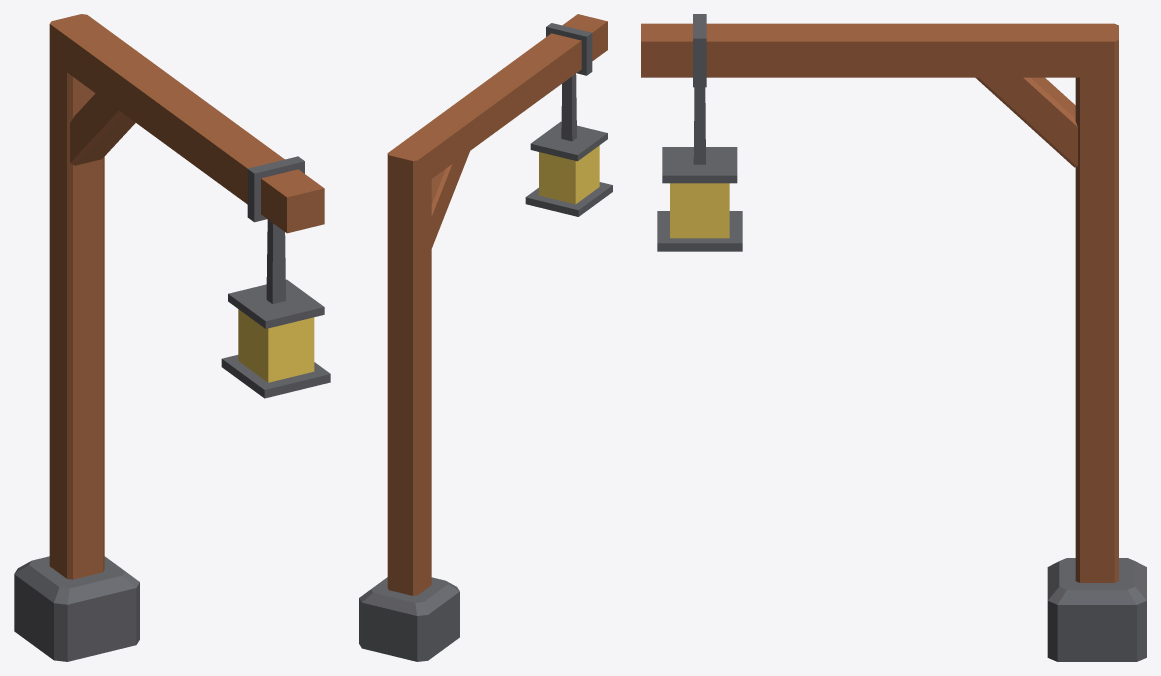
The model's file is model_lamp.fbx.
3 renders of one model, left to right at view 1: azimuth 30°, elevation 25°; view 2: azimuth 150°, elevation 25°; view 3: azimuth 270°, elevation 25°, orthographic. The views are drawn at different scales.
Parts seen in each view (by area): view 1: pCube3; view 2: pCube3; view 3: pCube3.
Boxes of the visible parts, x1,y1,x2,y2 form: pCube3: (14, 14, 330, 661); pCube3: (359, 14, 612, 661); pCube3: (641, 14, 1146, 661).
Bounding box in the file's own units: 0.6052 × 4.14 × 3.08.
